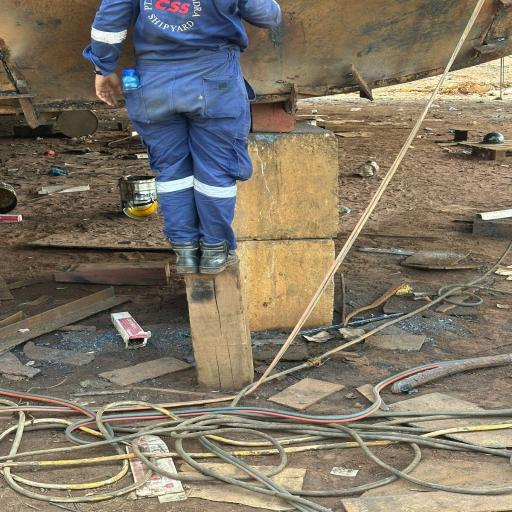safety_shoe: (196, 242, 239, 274), (166, 236, 201, 274)
